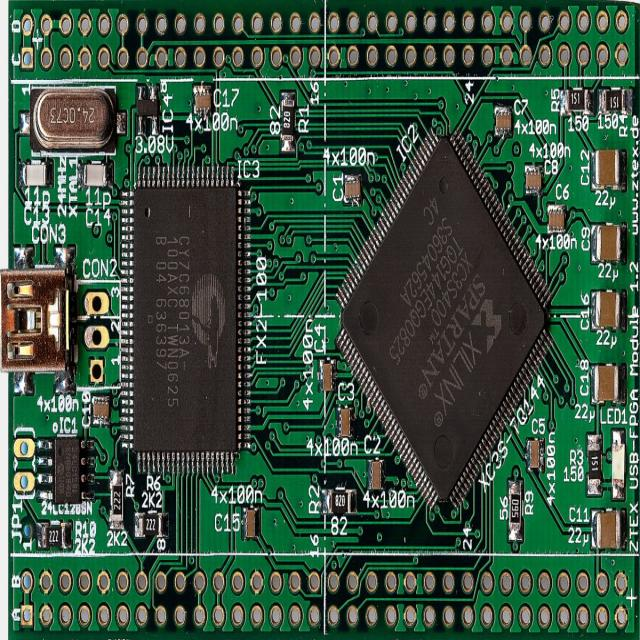-component text- -24-0C73-: (49, 102, 96, 125)
-component text- -24LC1281 8Ne30840 UDB-: (57, 444, 77, 498)
-component text- -CY7C68013A- 100AXC TWN0625 B 04 636397-: (154, 230, 191, 410)
-component text- -XILINX SPARTAN XC3S400TM TQG144EGQ0825 S3604562A 4C-: (388, 190, 485, 430)
-component text- 151: (608, 93, 619, 108), (590, 452, 598, 472), (570, 90, 580, 105)
-component text- 222: (144, 514, 156, 532), (112, 488, 120, 510), (48, 528, 58, 542)
-component text- 560: (511, 496, 519, 519)
-component text- 78: (139, 101, 147, 112)
-component text- 820: (282, 106, 290, 130), (334, 492, 345, 506)
2024: (587, 434, 602, 494)
2080: (597, 87, 632, 115)
2156: (561, 87, 593, 115)
2189: (134, 512, 167, 536)
2200: (109, 469, 124, 528)
2222: (507, 479, 523, 541)
2249: (624, 584, 638, 608), (32, 28, 42, 50)
2276: (134, 134, 174, 154)
2287: (210, 480, 263, 505), (306, 435, 358, 460), (322, 144, 376, 168), (185, 110, 238, 134), (362, 488, 415, 512), (302, 316, 313, 411), (513, 116, 557, 138), (527, 138, 572, 159), (36, 392, 79, 413), (534, 232, 578, 250), (546, 430, 556, 508)
2373: (254, 253, 268, 366)
2609: (477, 372, 546, 493)
2622: (628, 257, 638, 554)
2637: (630, 111, 638, 238)
2644: (21, 539, 33, 551), (20, 85, 31, 96), (110, 352, 118, 367)
2660: (84, 184, 112, 208), (24, 186, 50, 204)
2683: (562, 464, 584, 483), (596, 112, 618, 130), (567, 114, 589, 130)
2685: (308, 533, 320, 559), (309, 80, 319, 106)
2700: (109, 318, 119, 332)
2713: (567, 524, 589, 548), (598, 261, 620, 283), (595, 188, 616, 210), (573, 402, 595, 423), (595, 328, 617, 348)
2715: (461, 524, 474, 550), (464, 79, 474, 106)
2716: (40, 499, 92, 515)
2717: (56, 156, 67, 219)
2727: (140, 489, 163, 508), (105, 528, 128, 546), (73, 536, 95, 554)
2728: (110, 284, 119, 298)
2761: (498, 491, 508, 522)
2775: (156, 536, 166, 551)
2778: (330, 513, 348, 539), (268, 104, 280, 137)
2791: (10, 606, 20, 621)
2833: (10, 572, 20, 588)
2843: (10, 50, 20, 66)
2844: (331, 170, 343, 204)
2845: (80, 391, 90, 428)
2856: (567, 504, 589, 525)
2867: (579, 146, 590, 188)
2878: (23, 205, 50, 224)
2889: (85, 206, 111, 227)
2900: (212, 508, 240, 534)
2911: (580, 288, 590, 329)
2922: (212, 86, 239, 108)
2933: (578, 356, 588, 396)
2955: (363, 432, 381, 456)
3057: (336, 379, 355, 402)
3153: (313, 322, 326, 355)
3188: (530, 414, 546, 436)
3199: (554, 181, 570, 200)
3210: (513, 96, 529, 116)
3221: (544, 158, 558, 175)
3232: (580, 224, 590, 253)
3260: (81, 256, 117, 277)
3261: (31, 223, 66, 245)
3267: (10, 14, 20, 36)
3455: (59, 412, 78, 433)
3466: (394, 121, 418, 162)
3472: (236, 157, 260, 180)
3473: (161, 90, 174, 136)
3521: (9, 498, 22, 543)
3574: (600, 406, 627, 424)
3766: (298, 103, 309, 136)
3767: (73, 519, 96, 537)
3877: (306, 482, 320, 515)
3985: (567, 448, 583, 464)
4046: (618, 111, 628, 139)
4122: (549, 86, 559, 113)
4157: (146, 472, 160, 492)
4168: (124, 471, 134, 499)
4190: (524, 490, 533, 517)
4420: (68, 158, 78, 221)
capacitor C10: (343, 172, 362, 205)
capacitor C100: (92, 397, 110, 423)
capacitor C110: (591, 509, 625, 548)
capacitor C120: (590, 148, 627, 190)
capacitor C130: (17, 161, 53, 186)
capacitor C140: (77, 160, 113, 185)
capacitor C150: (241, 505, 261, 540)
capacitor C160: (590, 290, 625, 328)
capacitor C170: (194, 84, 212, 114)
capacitor C180: (591, 364, 626, 403)
capacitor C20: (368, 458, 383, 490)
capacitor C30: (336, 406, 354, 436)
capacitor C40: (318, 357, 336, 391)
capacitor C50: (526, 438, 543, 470)
capacitor C60: (547, 203, 565, 231)
capacitor C70: (494, 105, 512, 135)
capacitor C80: (524, 164, 542, 193)
capacitor C90: (591, 222, 626, 265)
clock Y1: (29, 87, 114, 152)
connector CON3: (75, 281, 119, 388)
connector ICSP: (1, 268, 74, 370)
connector JP11: (13, 431, 35, 497)
connector P1: (13, 555, 639, 637), (9, 3, 638, 76)
ic IC1: (37, 435, 94, 500)
ic IC2 -CU384C 08KG4 3SZ1-: (334, 125, 552, 510)
ic IC3 -CU384C 08KG4 ESZ1-: (120, 165, 250, 473)
ic IC4: (135, 83, 158, 134)
led LED1: (611, 428, 625, 499)
resistor R10: (279, 90, 295, 154)
resistor R100: (37, 522, 72, 548)
resistor R20: (321, 487, 356, 512)
